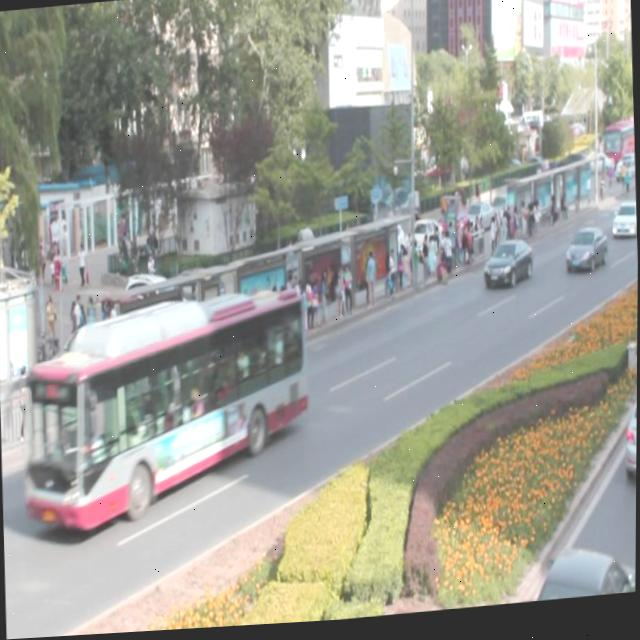car: (482, 241, 531, 298), (564, 233, 607, 280), (609, 206, 637, 248)
van: (22, 288, 308, 536)
